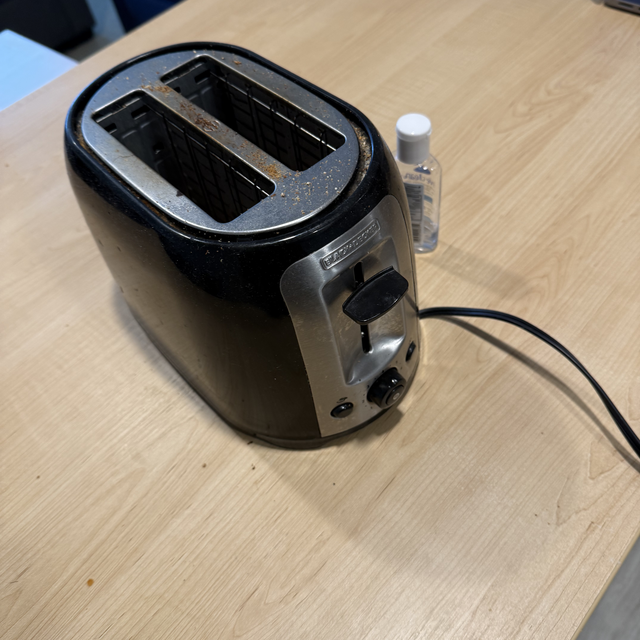Sanitizer: (392, 114, 444, 258)
Toaster: (64, 36, 432, 448)
